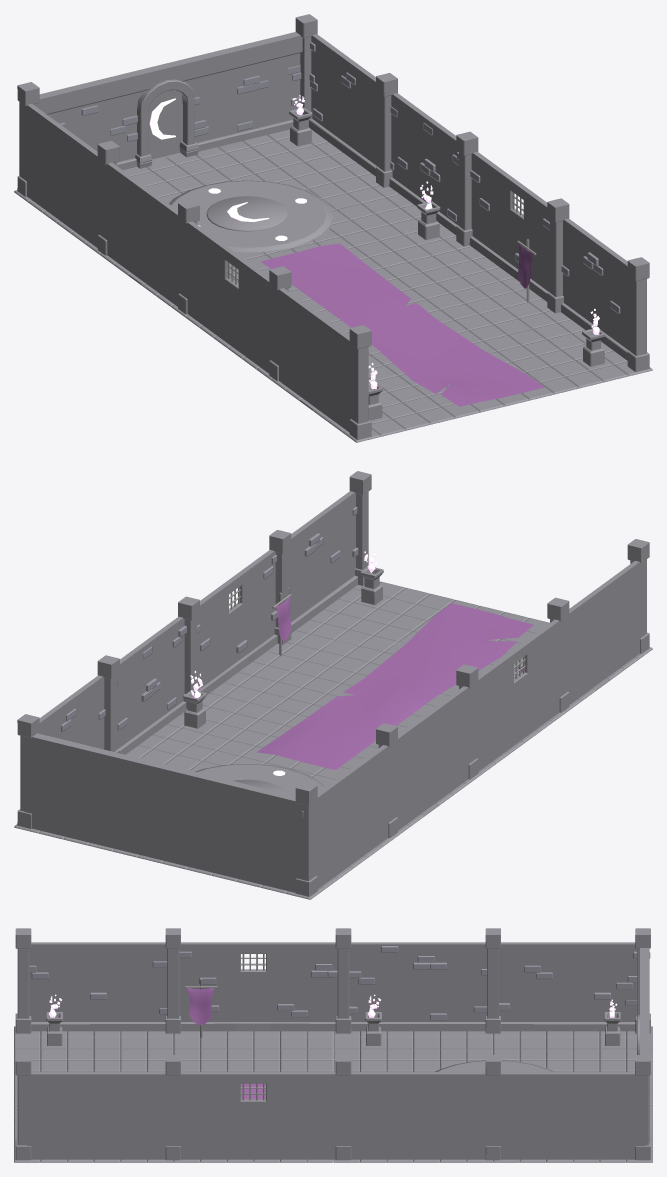
File: Rock_dungeon.glb
3 renders of one model, top to bottom at view 1: azimuth 30°, elevation 25°; view 2: azimuth 150°, elevation 25°; view 3: azimuth 270°, elevation 25°, orthographic. The views are drawn at different scales.
Visible parts, largest first — view 1: Object_8, Object_7, Object_3, Object_9, Object_11, Object_10, Object_5; view 2: Object_8, Object_7, Object_3, Object_9, Object_10, Object_11; view 3: Object_8, Object_7, Object_11, Object_9, Object_10, Object_4, Object_6, Object_5.
Part boxes in pixels (x1,y1,x2,y2): Object_8: (17, 34, 651, 440); Object_7: (15, 14, 649, 439); Object_3: (261, 243, 544, 406); Object_9: (185, 250, 652, 442); Object_11: (59, 42, 620, 313); Object_10: (14, 131, 470, 316); Object_5: (149, 95, 599, 388); Object_8: (38, 491, 651, 888); Object_7: (15, 471, 649, 897); Object_3: (257, 603, 533, 769); Object_9: (203, 581, 652, 774); Object_10: (14, 707, 481, 899); Object_11: (61, 507, 358, 817); Object_8: (14, 942, 650, 1160); Object_7: (14, 928, 652, 1160); Object_11: (29, 946, 650, 1020); Object_9: (14, 1027, 333, 1162); Object_10: (333, 1027, 652, 1162); Object_4: (186, 988, 214, 1025); Object_6: (185, 954, 265, 1100); Object_5: (49, 994, 617, 1017).
Size of the model in its own units: 23.88 by 8.28 by 47.78.
